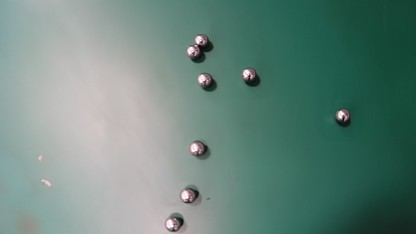ironball: (197, 72, 213, 88), (180, 188, 197, 203), (189, 141, 205, 156), (165, 217, 181, 232), (186, 44, 200, 59), (242, 67, 256, 82), (335, 108, 350, 122), (194, 34, 208, 47)
